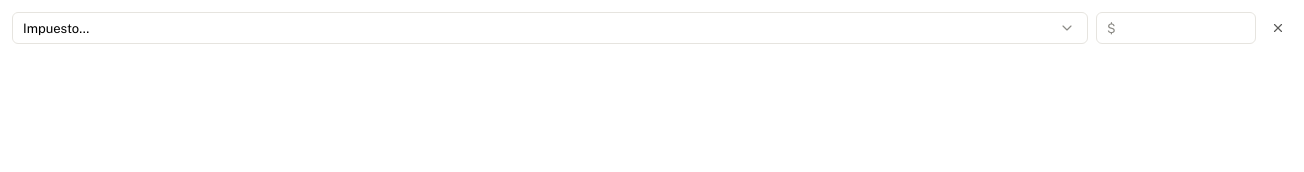
FilasImpuestos › elegir IVA 21 completa el monto sobre el neto
This screenshot has width=1304, height=172.
Select "IVA 21 · 21 %" in the dropdown named "Impuesto": (550, 28) left=12, top=12, right=1088, bottom=44
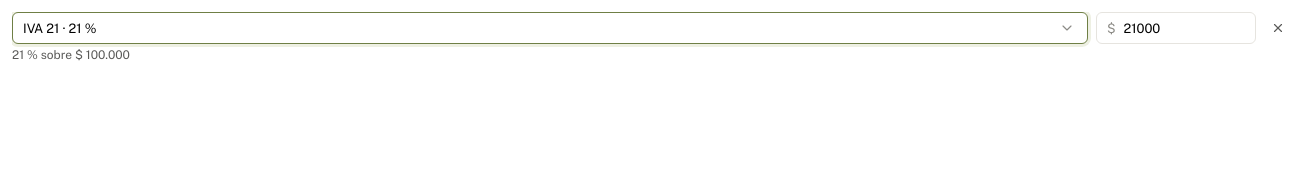
Expected: the text "21 % sobre $ 100.000" is shown, left=12, top=48, right=130, bottom=62
